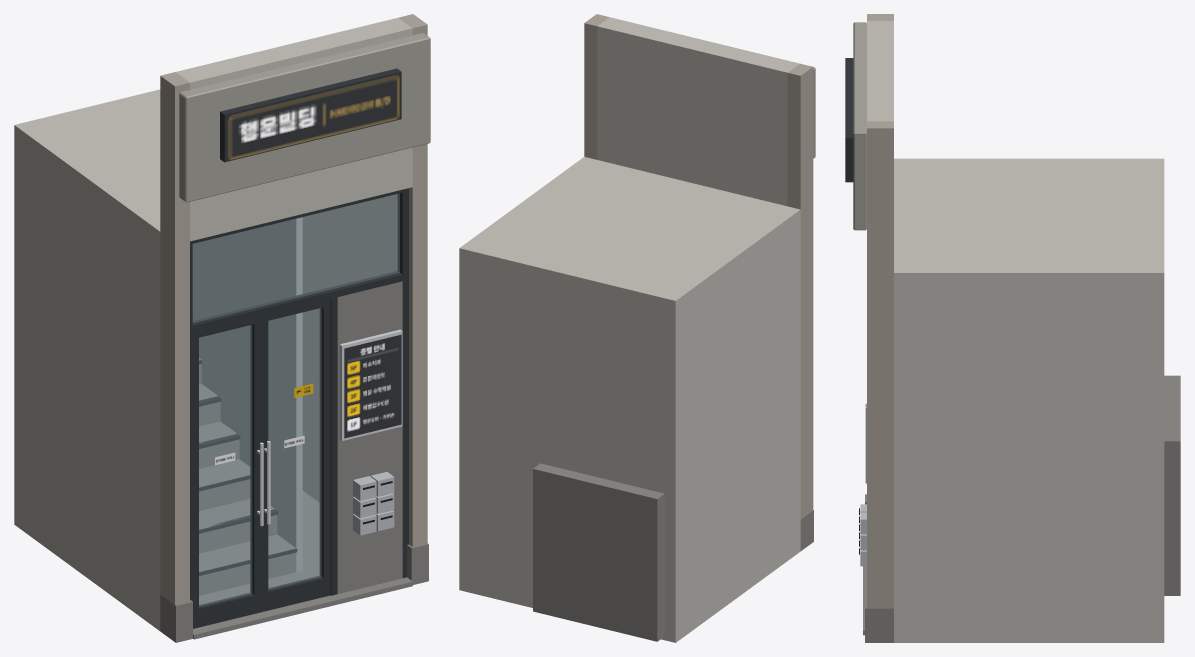
File: SC_Shop_Entrance_2m.gltf
3 views of the same model, side by side, from view 1: azimuth 30°, elevation 25°; view 2: azimuth 150°, elevation 25°; view 3: azimuth 270°, elevation 25° (orthographic). The views are drawn at different scales.
Parts seen in each view (by area): view 1: SC_Shop_Entrance_2m; view 2: SC_Shop_Entrance_2m; view 3: SC_Shop_Entrance_2m.
Boxes of the visible parts, x1,y1,x2,y2 form: SC_Shop_Entrance_2m: [14, 14, 430, 642]; SC_Shop_Entrance_2m: [459, 14, 815, 642]; SC_Shop_Entrance_2m: [845, 14, 1180, 642].
Bounding box in the file's own units: 2 × 4.2 × 2.49.
Materials: 5 (5 with a texture image).
